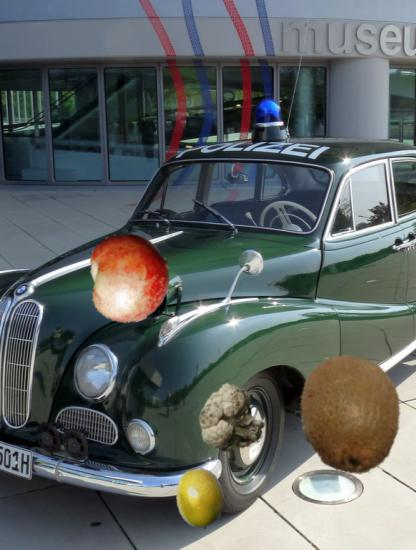Cauliflower: (198, 384, 268, 454)
Kiwi: (289, 353, 412, 476)
Maracuja: (170, 468, 231, 529)
Nectarine: (84, 232, 175, 323)
